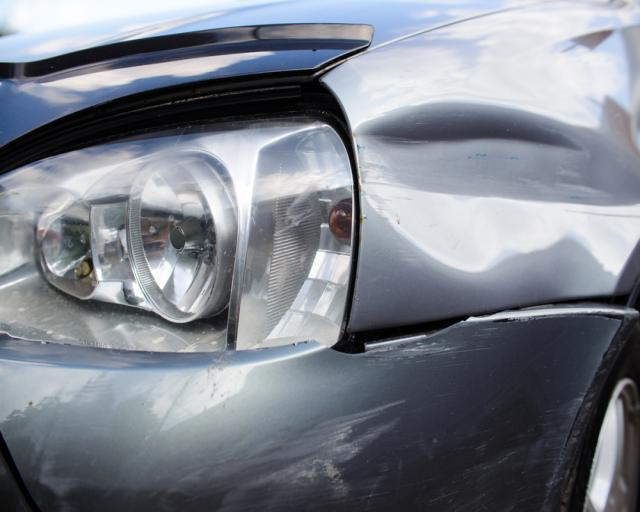dent: (353, 102, 640, 274)
scratch: (32, 306, 628, 512)
